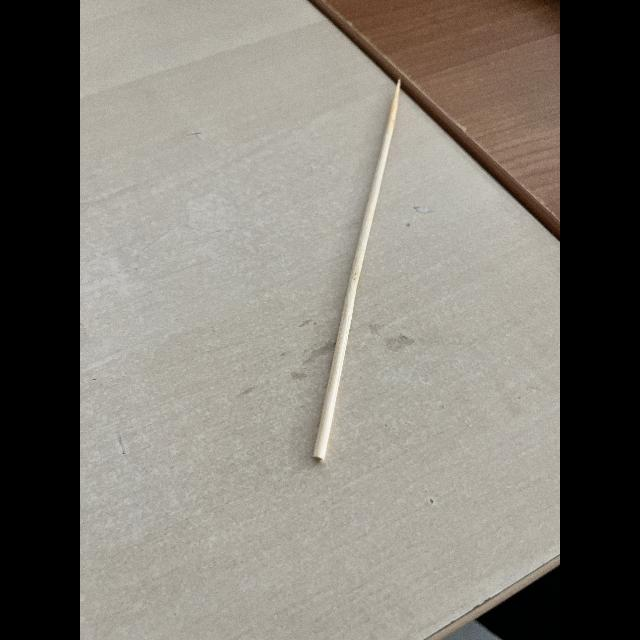stick: (281, 64, 459, 482)
